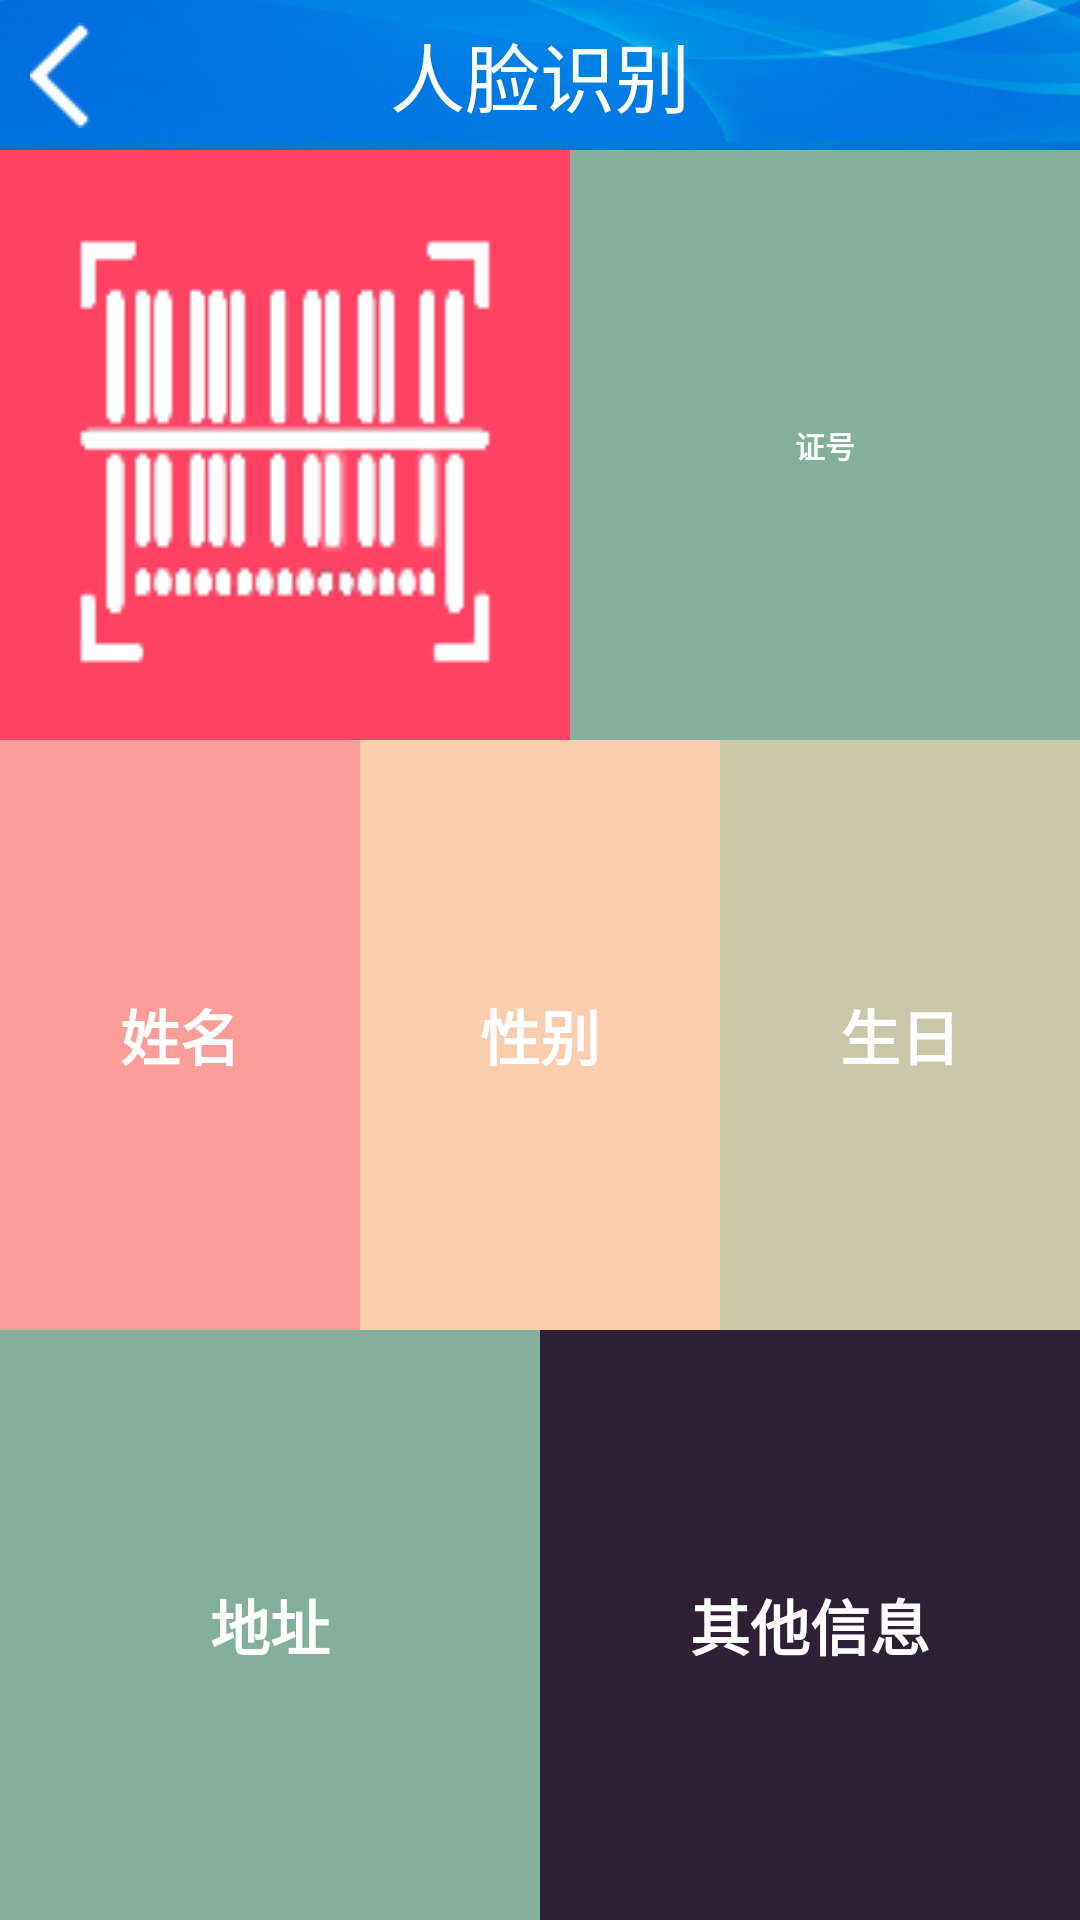

Icon click points for this 1080 × 1920 phone screenshot, format (x=x, y=y):
bar back: (x=60, y=75)
